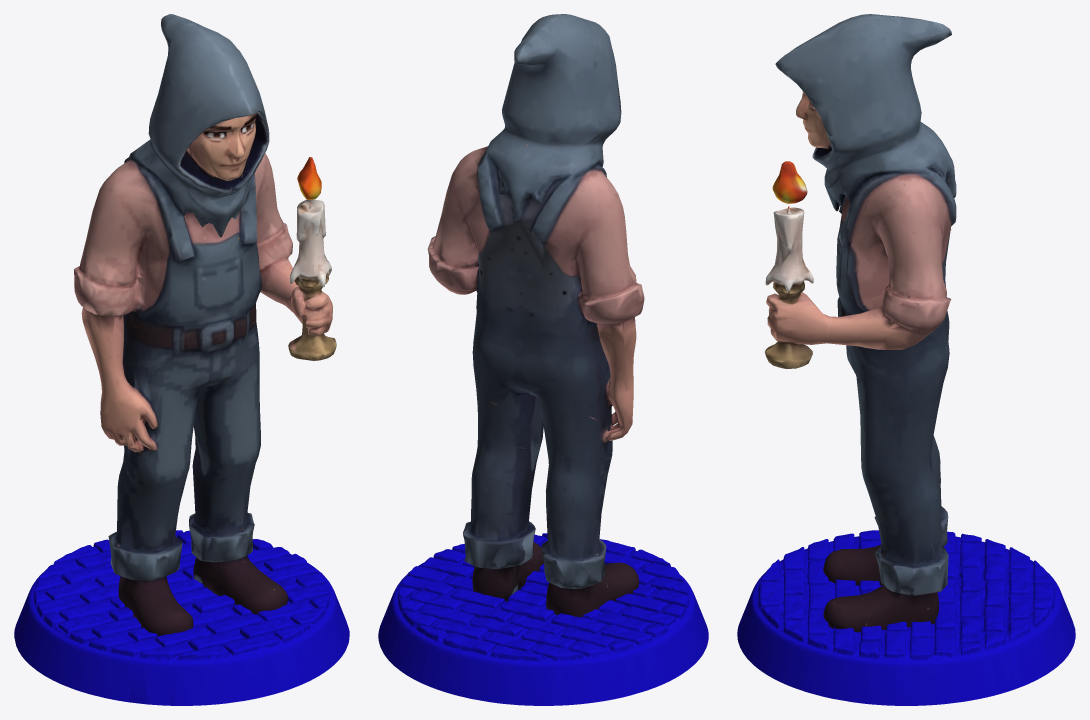
Rendered from janitor_base_aceso.glb.
The picture shows the model from 3 angles, left to right: view 1: azimuth 30°, elevation 25°; view 2: azimuth 150°, elevation 25°; view 3: azimuth 270°, elevation 25°; orthographic projection. The views are drawn at different scales.
Parts seen in each view (by area): view 1: mesh_node.001, Object_3.002; view 2: mesh_node.001, Object_3.002; view 3: mesh_node.001, Object_3.002.
Boxes of the visible parts, x1,y1,x2,y2 form: mesh_node.001: (74,14,336,636); Object_3.002: (14,530,349,705); mesh_node.001: (427,14,644,617); Object_3.002: (378,533,708,705); mesh_node.001: (765,14,956,632); Object_3.002: (737,530,1075,705).
Size of the model in its own units: 0.4184 by 0.8457 by 0.4183.
2 materials, 1 textured.
